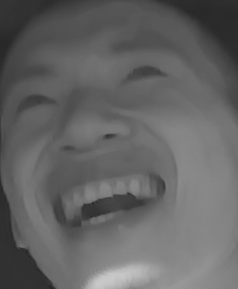eye: (120, 56, 169, 85), (13, 87, 59, 116)
mouth: (38, 157, 167, 243)
